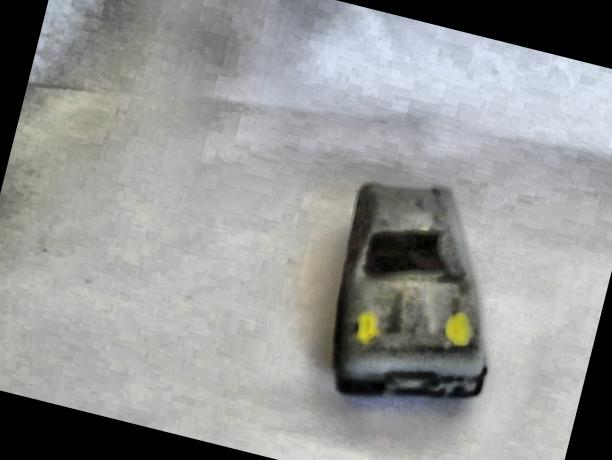normal_car: (302, 165, 532, 432)
